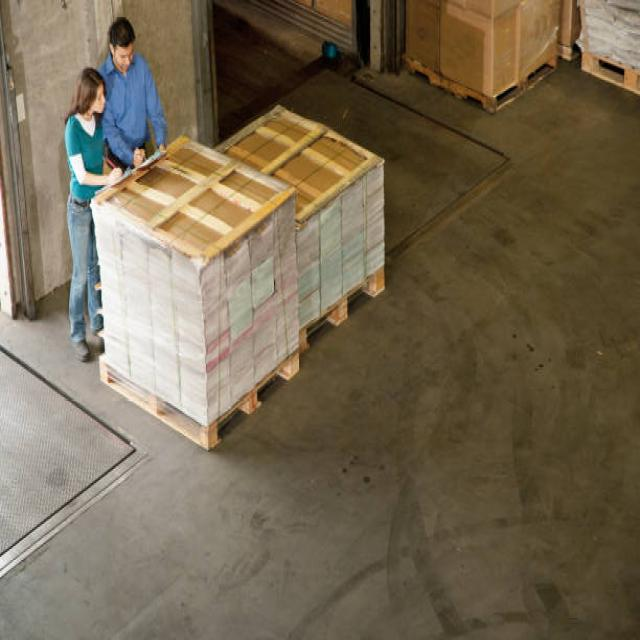Wooden-Pallets: (93, 339, 300, 456), (299, 251, 395, 364)
